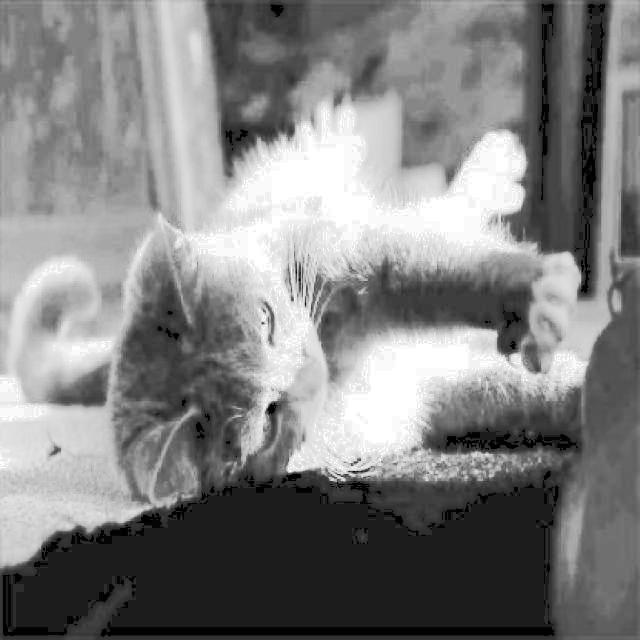Cat: (0, 93, 583, 510)
